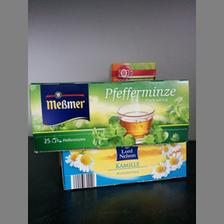Tee: (29, 78, 190, 149), (56, 142, 188, 190)
